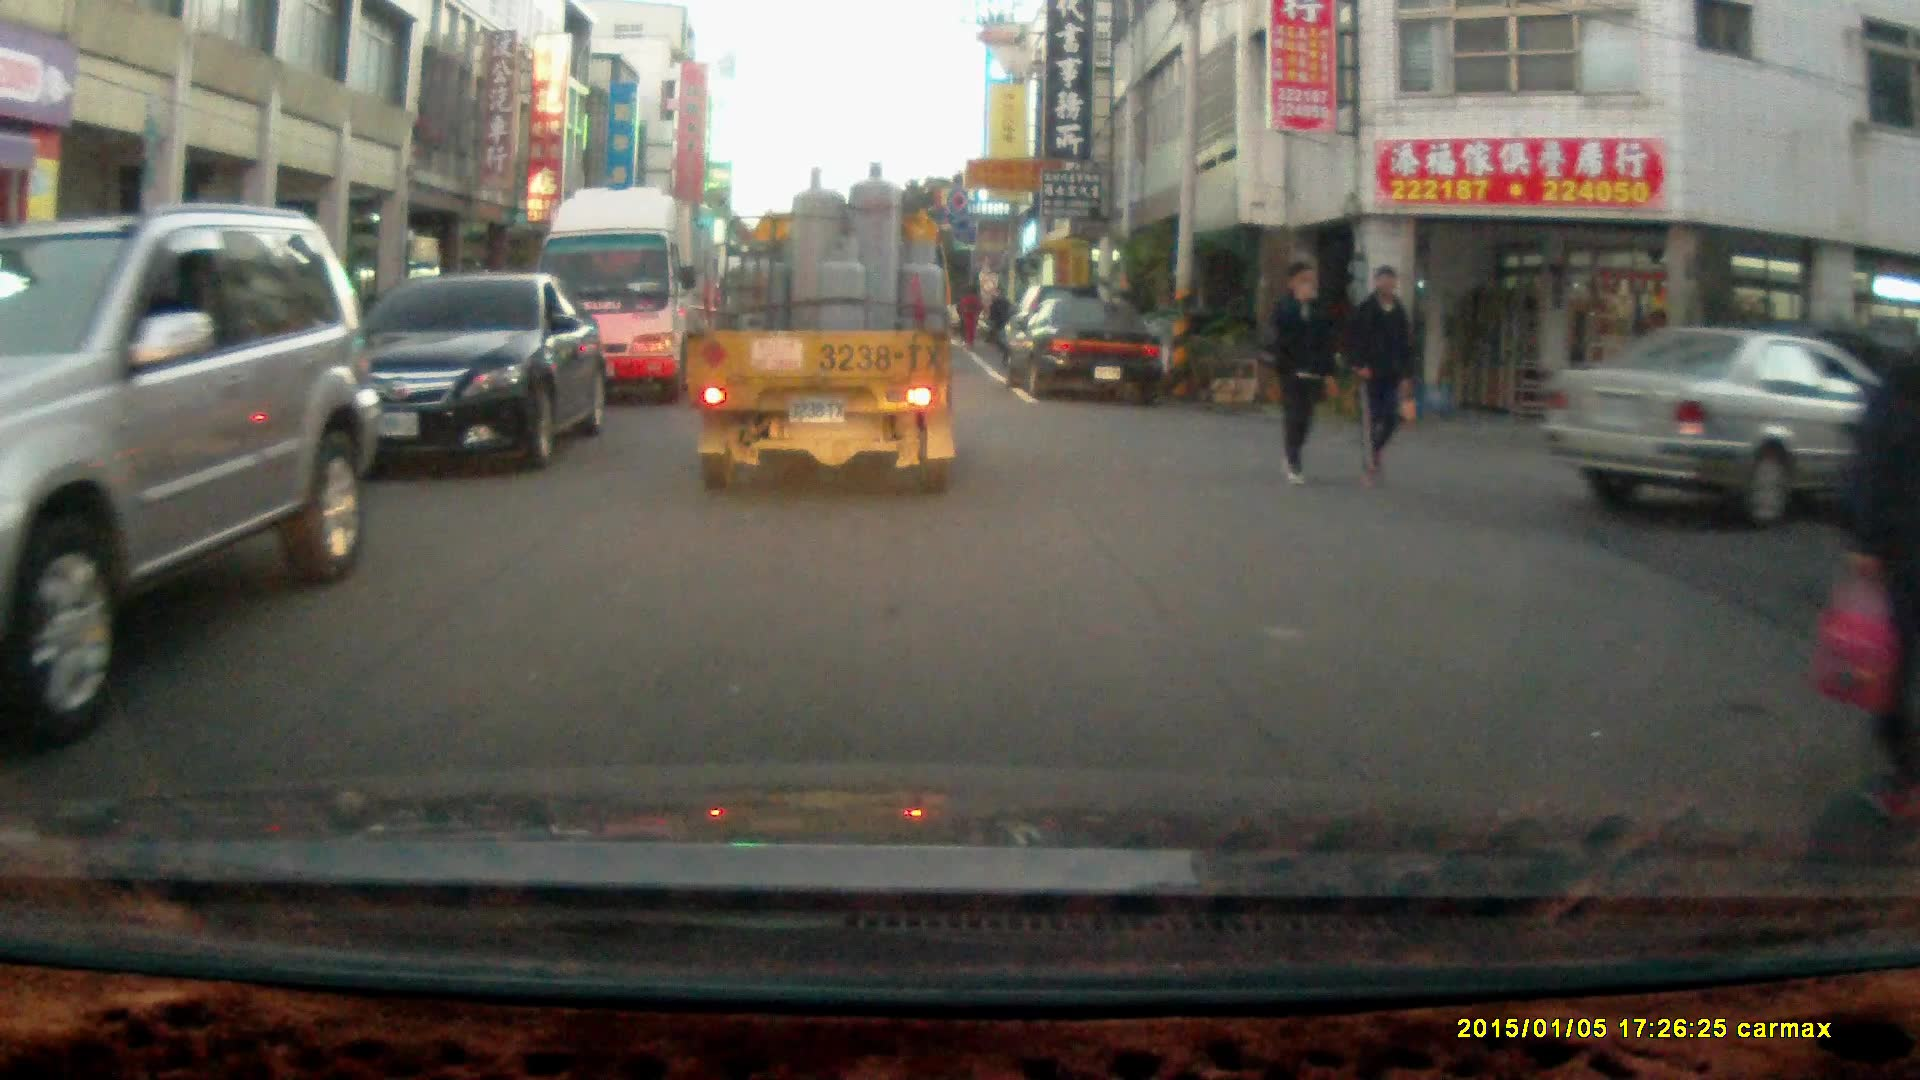pedestrian: (1835, 323, 1920, 827), (1344, 262, 1415, 495), (1271, 254, 1336, 485), (985, 280, 1013, 351), (956, 280, 981, 350)
vehicle: (1, 203, 391, 746), (687, 163, 963, 500), (1534, 326, 1920, 528), (294, 272, 613, 475), (531, 180, 720, 406), (998, 293, 1166, 403)
